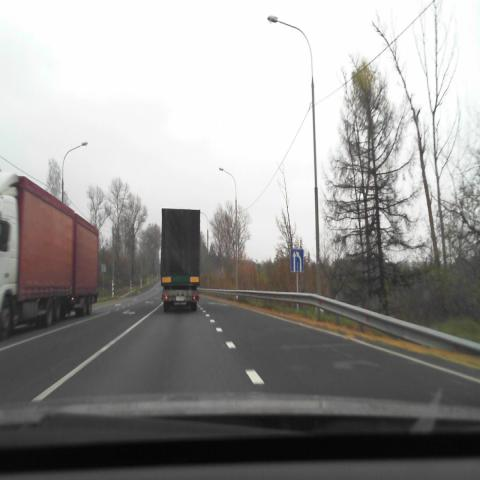5_15_5: (290, 249, 304, 272)
